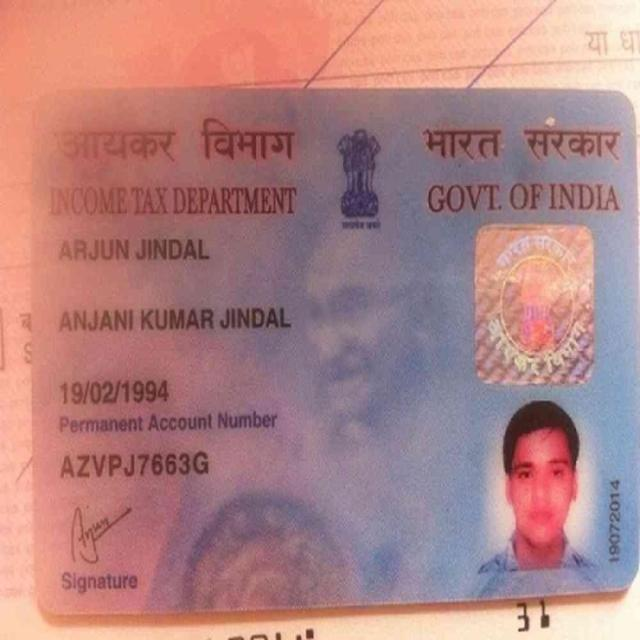pan_card: (36, 95, 633, 607)
